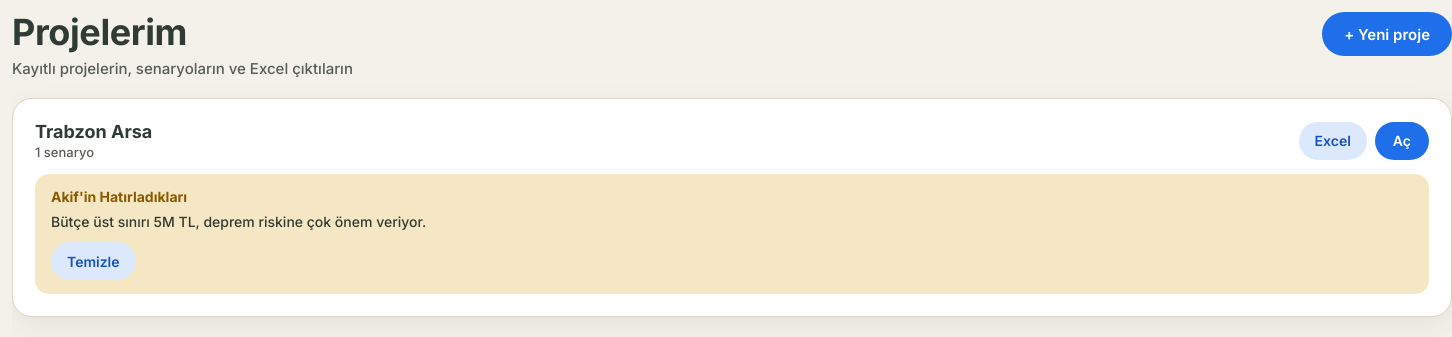
Test: Temizle -> PATCH /api/projects/:id, başarıyla blok kaybolur + başarı toast'ı
Click the button "Temizle".
click(93, 261)  # box top-left (51, 242), bottom-right (136, 280)
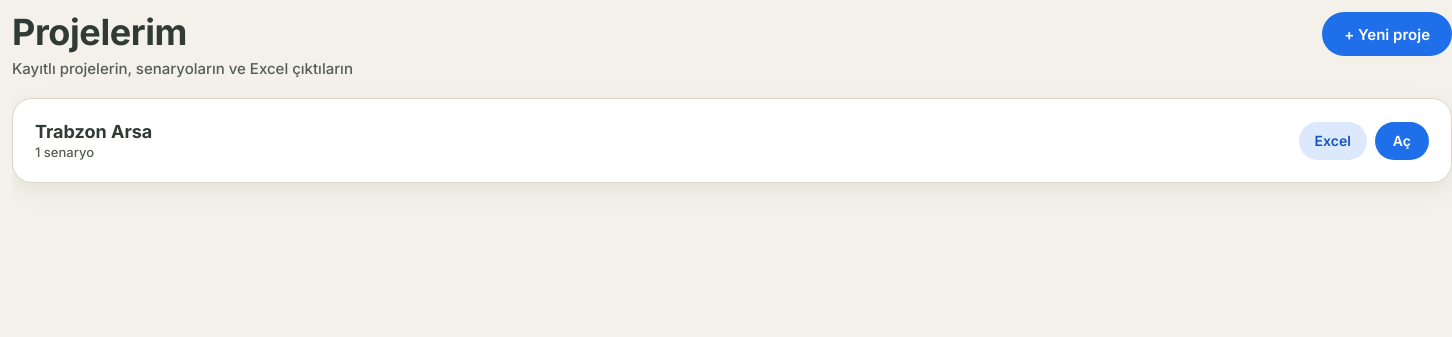
expect the heading "Hatırladıkları" is gone: met
